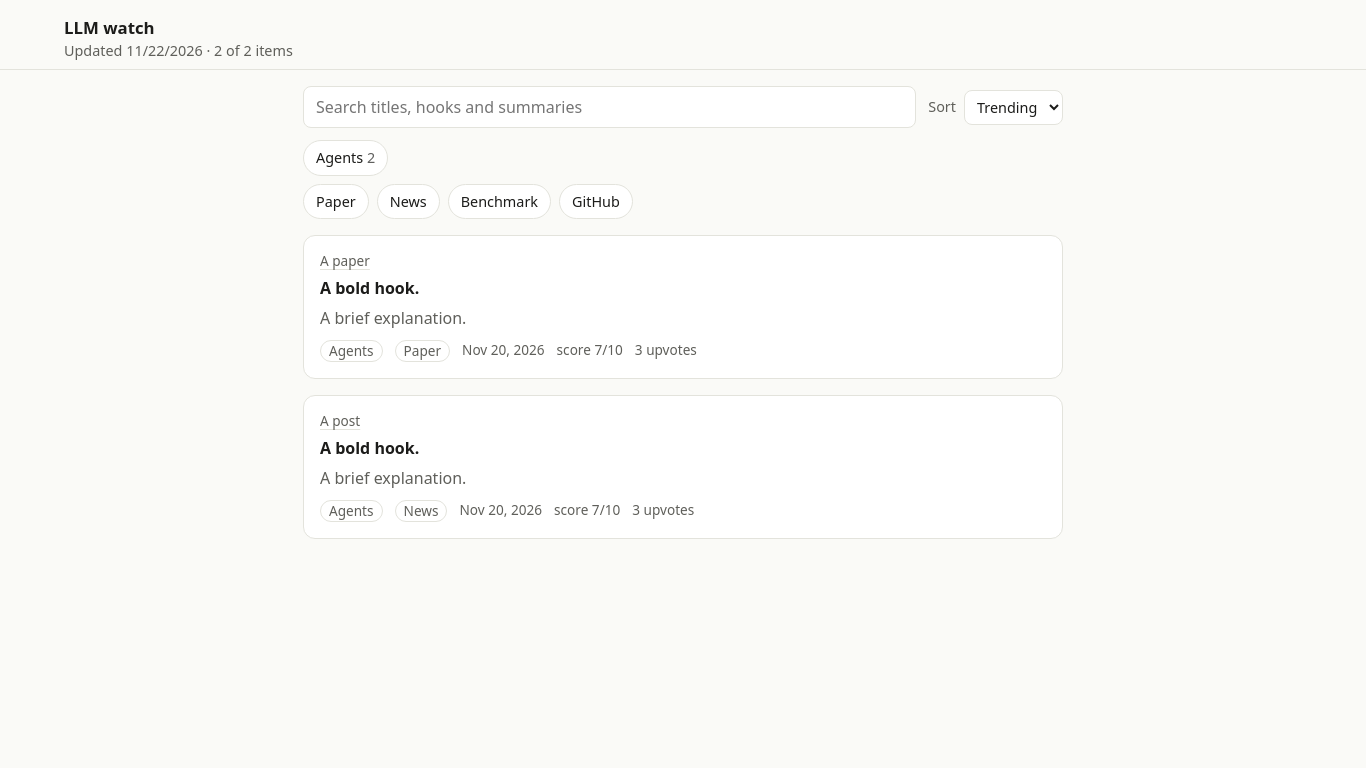
Test: type filter and search narrow the list; an empty result says so
Check: the link "A paper" is shown, box [320,251,370,270]
Click the button "News" at (408, 202), box [377,184,440,219]
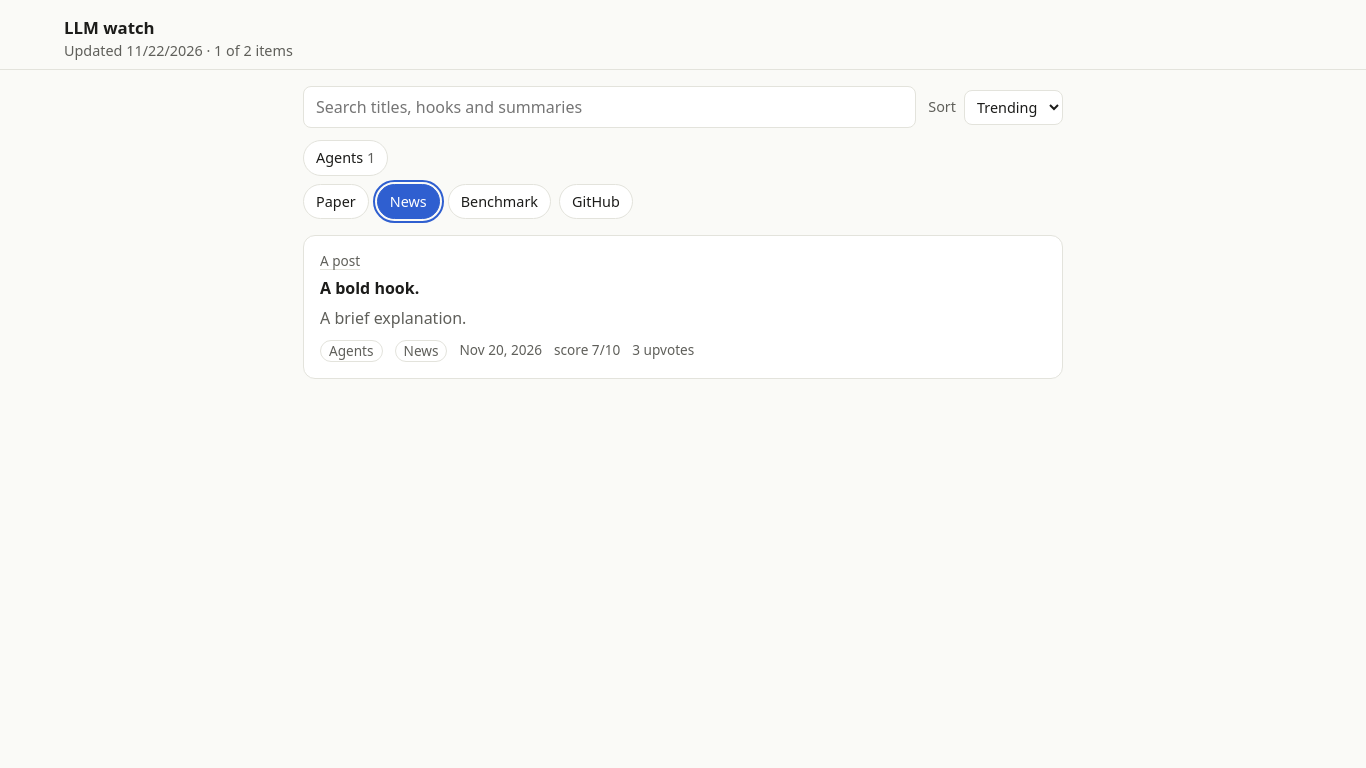
Check: the link "A paper" is gone
Type "zzz" into the search field at (610, 107), box [303,86,916,128]
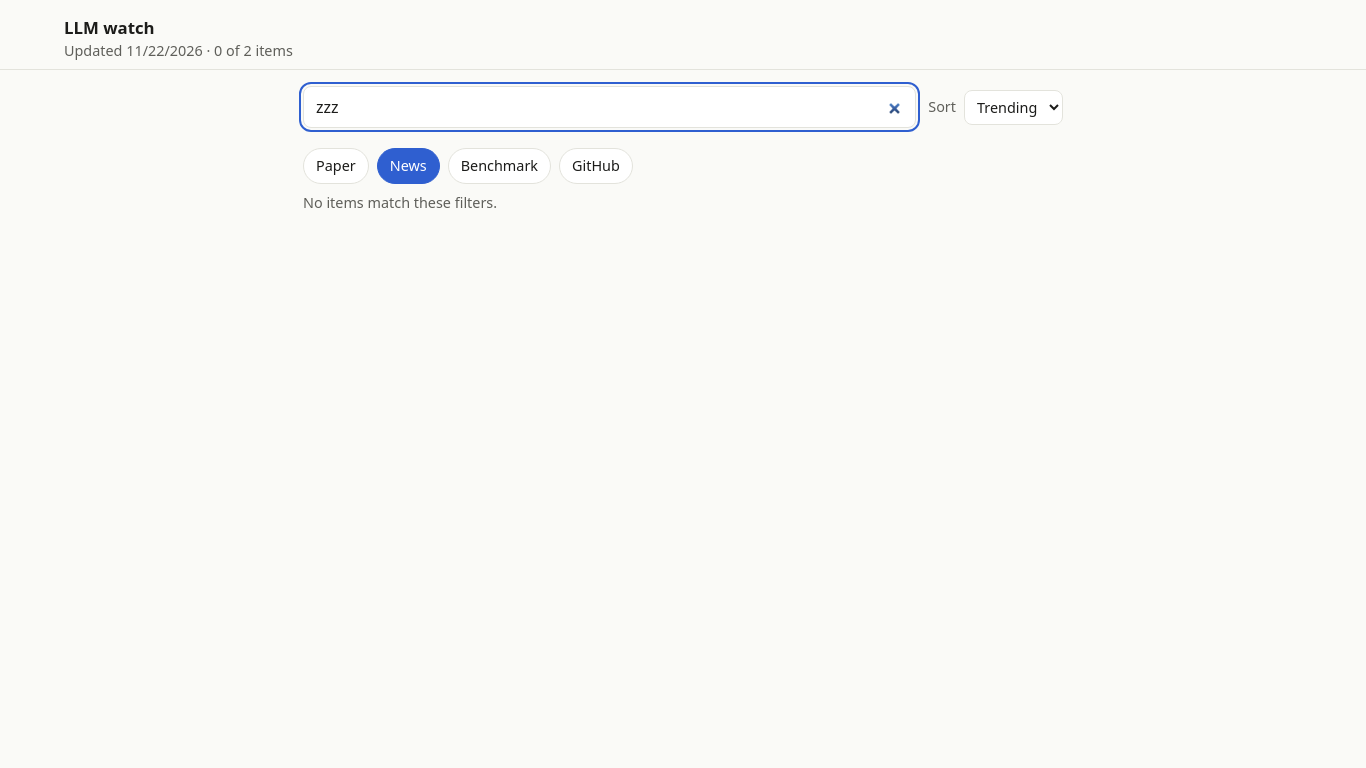
Check: the text "No items match these filters." is shown, box [303,193,497,212]
